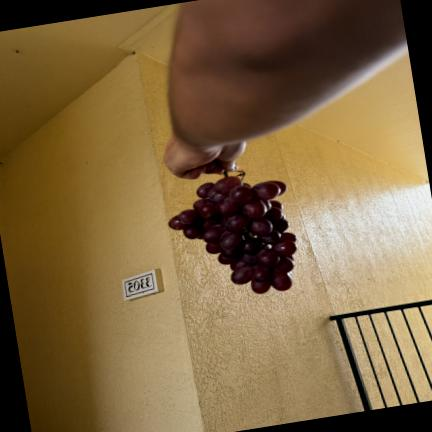grape_cluster: (169, 176, 297, 293)
